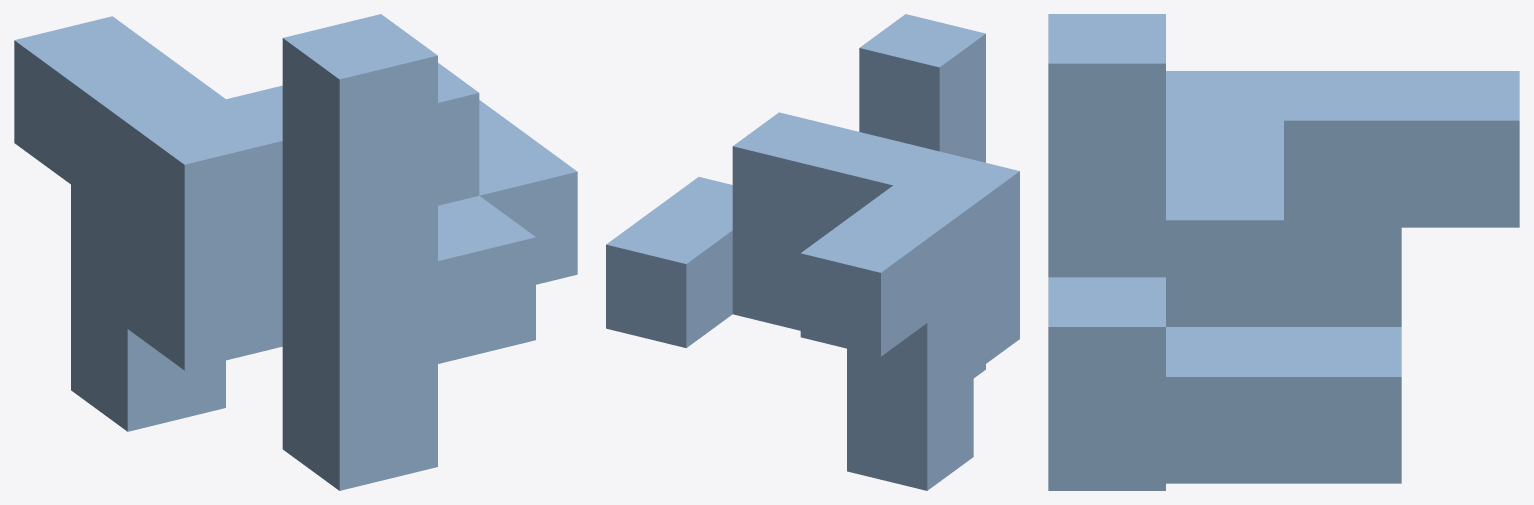
The picture shows the model from 3 angles, left to right: view 1: azimuth 30°, elevation 25°; view 2: azimuth 150°, elevation 25°; view 3: azimuth 270°, elevation 25°; orthographic projection. The views are drawn at different scales.
Visible parts, largest first — view 1: _changes (2).015; view 2: _changes (2).015; view 3: _changes (2).015.
Part boxes in pixels (x1,y1,x2,y2): _changes (2).015: (14,14,577,490); _changes (2).015: (606,14,1019,490); _changes (2).015: (1048,14,1519,490).
Bounding box in the file's own units: 0.1599 × 0.1599 × 0.1599.
